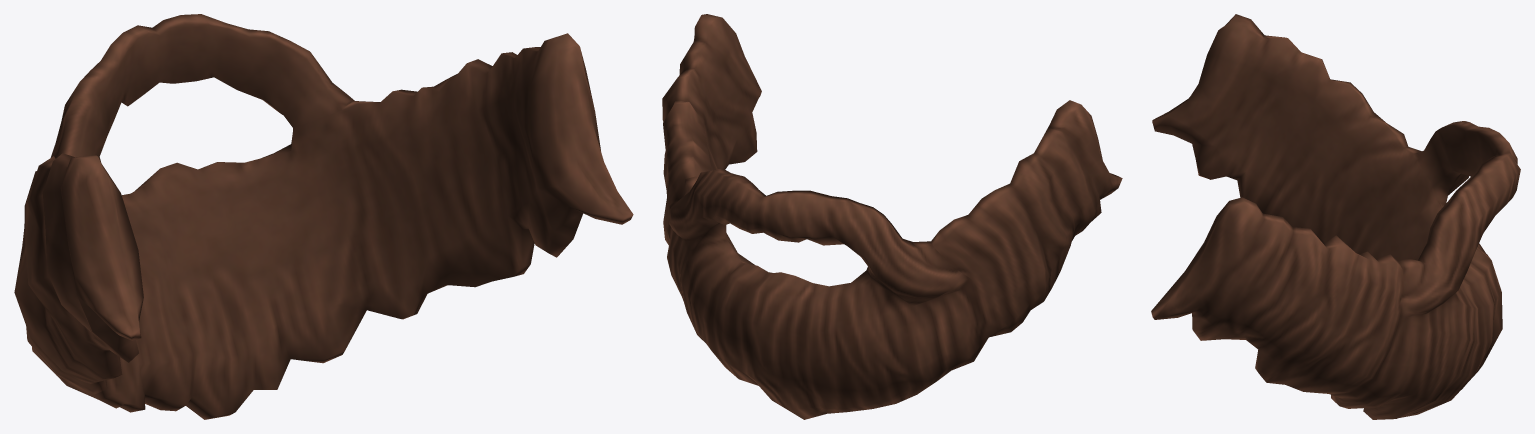
3 renders of one model, left to right at view 1: azimuth 30°, elevation 25°; view 2: azimuth 150°, elevation 25°; view 3: azimuth 270°, elevation 25°, orthographic. The views are drawn at different scales.
Parts seen in each view (by area): view 1: geometry_0; view 2: geometry_0; view 3: geometry_0.
Part boxes in pixels (x1,y1,x2,y2): geometry_0: (14, 14, 633, 419); geometry_0: (662, 14, 1122, 419); geometry_0: (1151, 14, 1520, 419).
Size of the model in its own units: 0.6661 by 0.4653 by 0.5059.
1 material, 1 textured.
